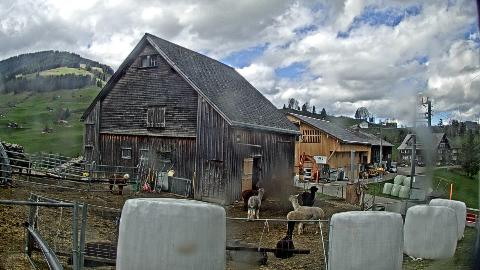car: (388, 165, 398, 173), (418, 160, 426, 168)
sheep: (70, 216, 120, 266), (288, 194, 324, 234), (224, 239, 268, 265), (274, 220, 296, 258), (242, 186, 272, 210), (247, 188, 265, 222), (287, 210, 307, 234), (302, 186, 318, 214), (110, 173, 130, 195), (9, 158, 32, 175), (252, 166, 262, 182)
